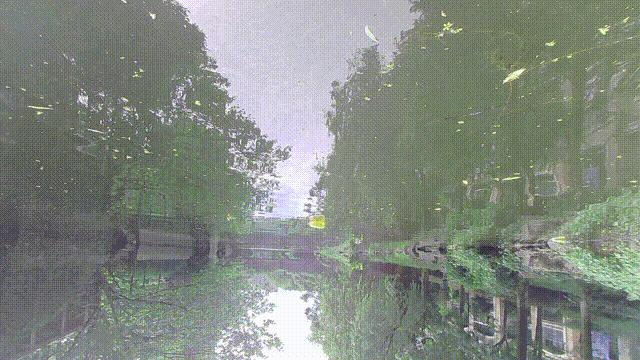Plastic: (306, 220, 326, 229), (550, 237, 566, 243), (353, 239, 363, 246), (447, 244, 455, 251)
